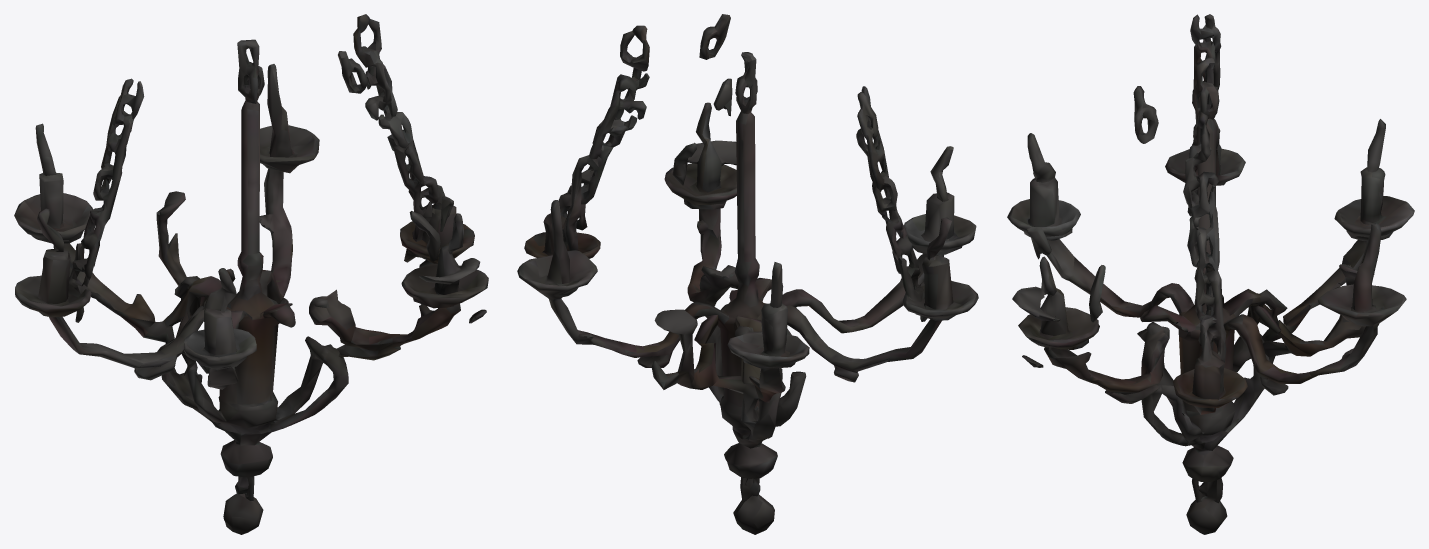
File: chipped-iron-chandelier-v001.glb
3 renders of one model, left to right at view 1: azimuth 30°, elevation 25°; view 2: azimuth 150°, elevation 25°; view 3: azimuth 270°, elevation 25°, orthographic. The views are drawn at different scales.
Visible parts, largest first — view 1: chipped-iron-chandelier; view 2: chipped-iron-chandelier; view 3: chipped-iron-chandelier.
Boxes of the visible parts, bbox=[...] form: chipped-iron-chandelier: bbox=[14, 14, 488, 534]; chipped-iron-chandelier: bbox=[517, 14, 978, 534]; chipped-iron-chandelier: bbox=[1007, 14, 1414, 534].
Bounding box in the file's own units: 1.3 × 1.35 × 1.04.
1 material, 1 textured.
